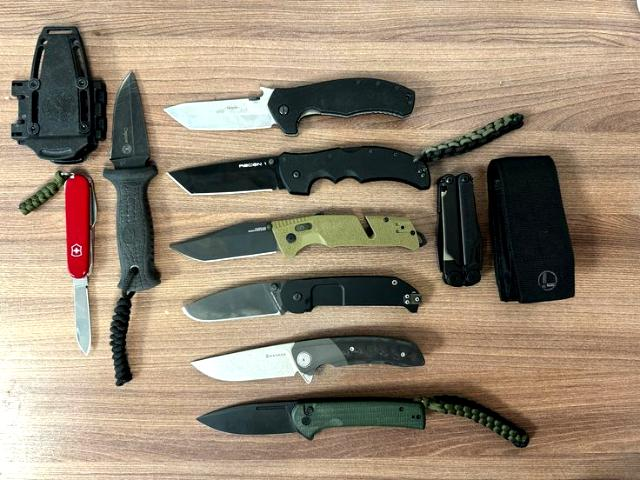pocket-knife: (159, 75, 423, 141), (164, 204, 430, 264), (168, 142, 440, 200), (178, 266, 426, 324), (188, 330, 432, 386), (195, 395, 435, 445), (60, 167, 96, 363)
